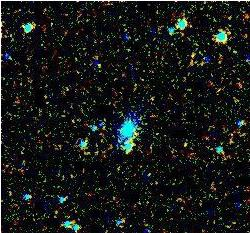star: (170, 128, 200, 158)
